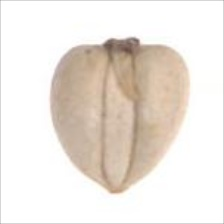L5: (99, 51, 139, 186), (89, 173, 145, 196), (94, 37, 147, 58)
L6: (48, 36, 192, 195)
